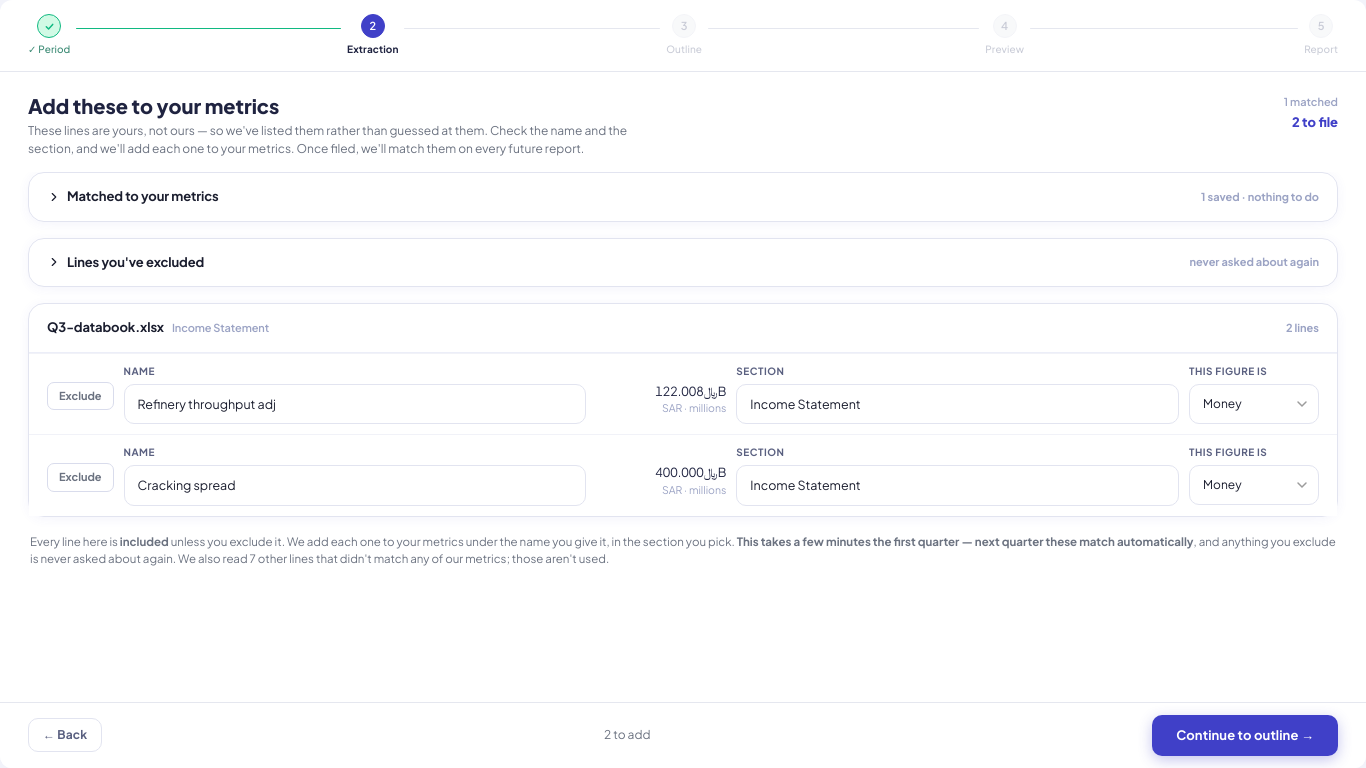
Test: quarterly extraction review › blocks two lines in one file sharing a name
This screenshot has width=1366, height=768.
Check: the heading "Add these to your metrics" is shown, box x1=28 y1=93 x2=279 y2=118
Replace the text in the field labelled "Name" next to "﷼400.000B" with "Refinery throughput adj". click: point(355, 486)
box: x1=124 y1=465 x2=586 y2=506
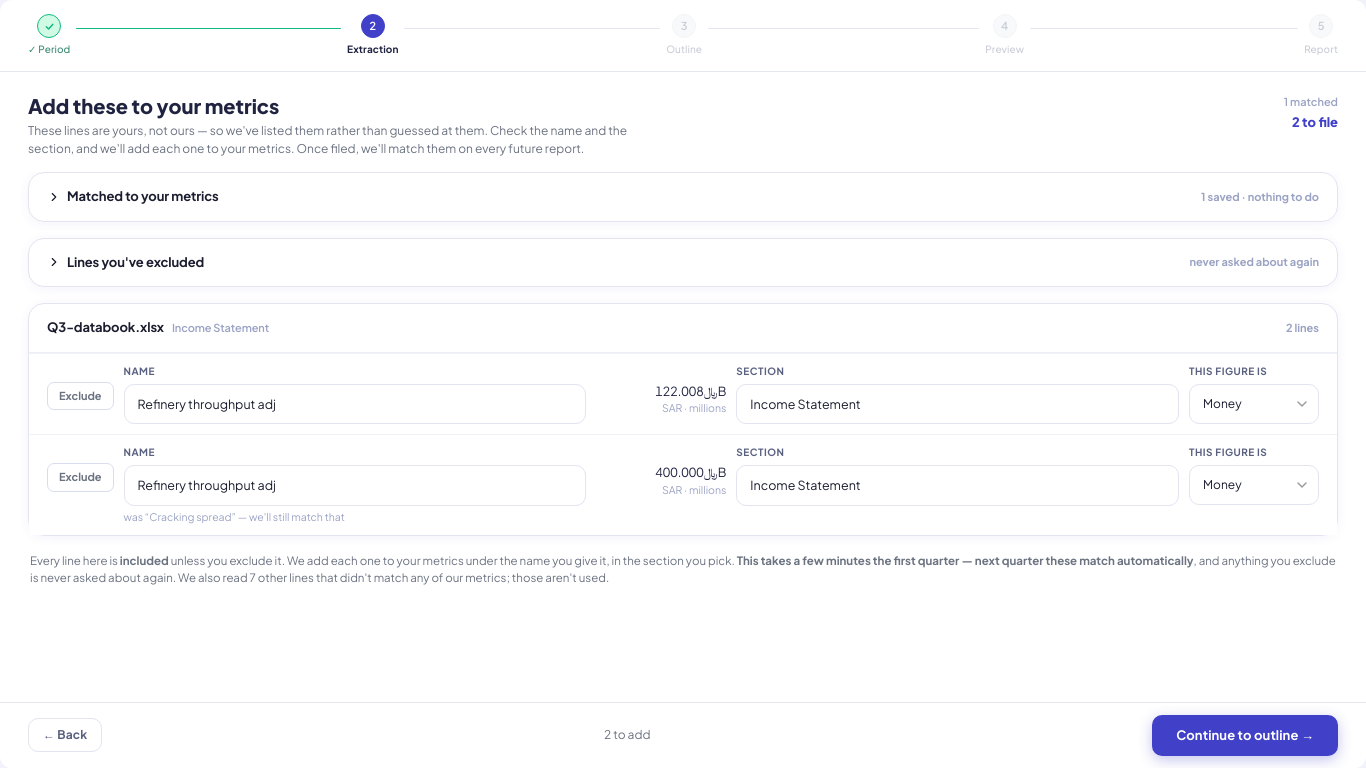
Click the button "Continue to outline →". click: point(1245, 735)
box: x1=1152 y1=714 x2=1338 y2=756
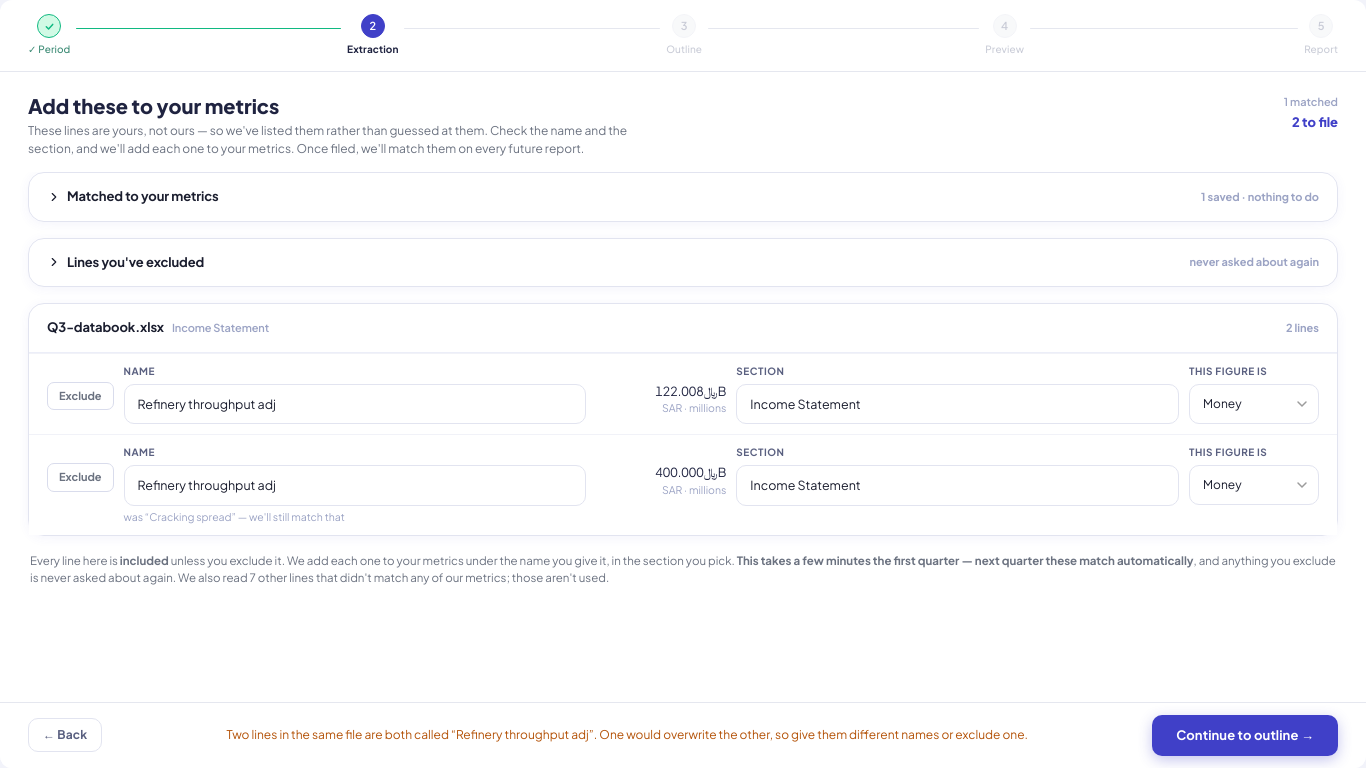
Check: the text "would overwrite the other" is shown, box x1=226 y1=727 x2=1028 y2=742
